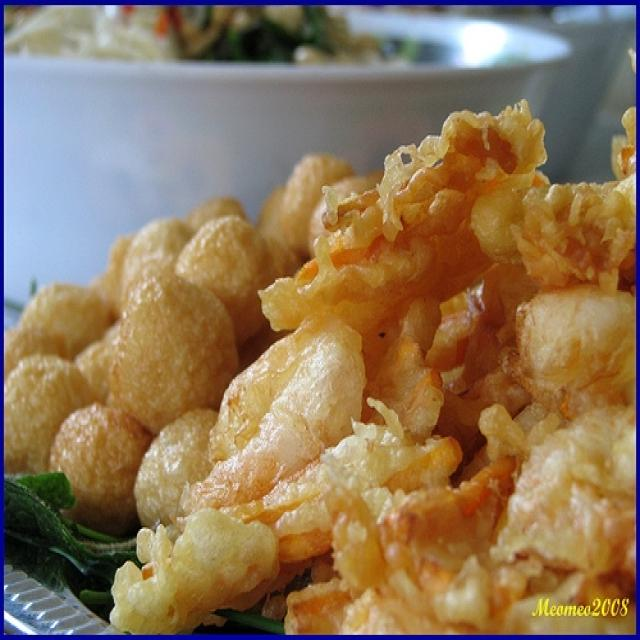炸货点心: (26, 77, 620, 621)
熟制海鲜: (26, 77, 620, 621)
